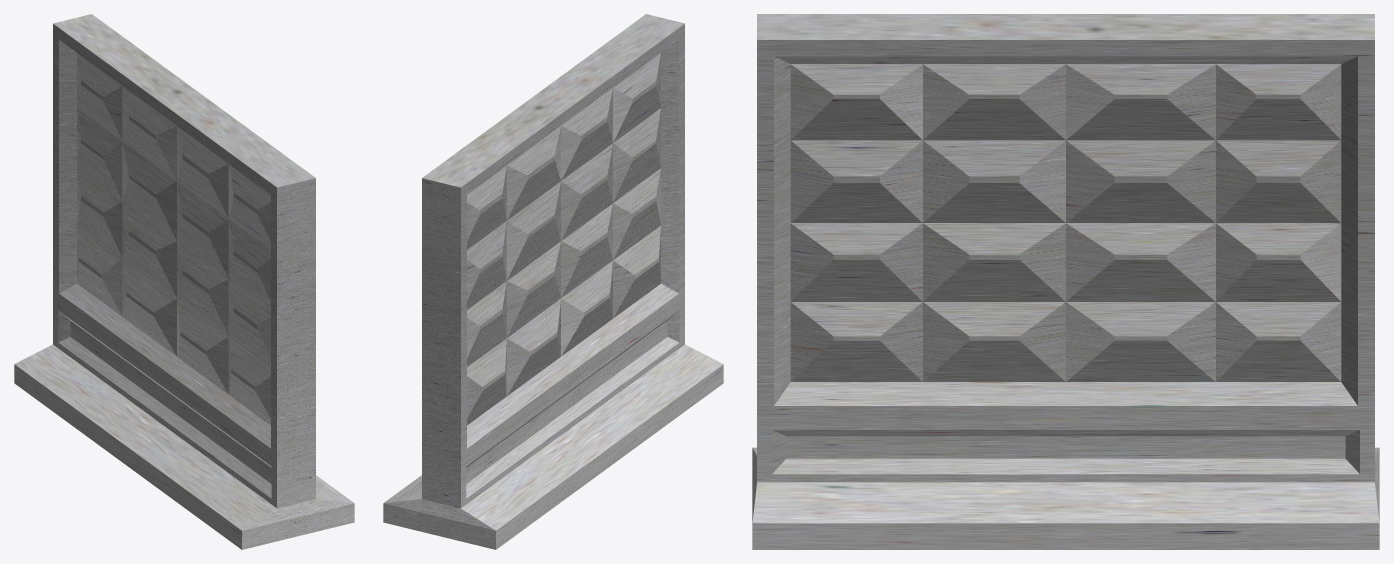
Rendered from zaborBeton.fbx.
3 views of the same model, side by side, from view 1: azimuth 30°, elevation 25°; view 2: azimuth 150°, elevation 25°; view 3: azimuth 270°, elevation 25° (orthographic). The views are drawn at different scales.
Parts seen in each view (by area): view 1: Cube; view 2: Cube; view 3: Cube.
Boxes of the visible parts, x1,y1,x2,y2 form: Cube: (14,14,354,549); Cube: (383,14,723,549); Cube: (752,14,1379,549).
Size of the model in its own units: 207 by 618 by 724.
